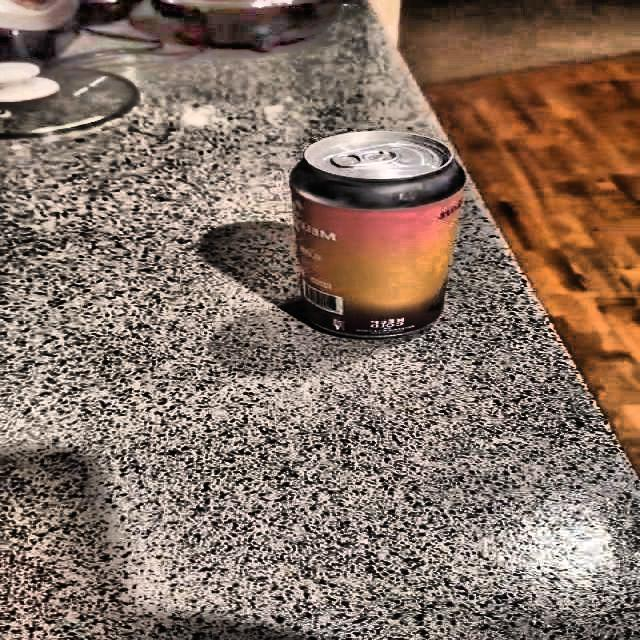can: (281, 126, 473, 340)
